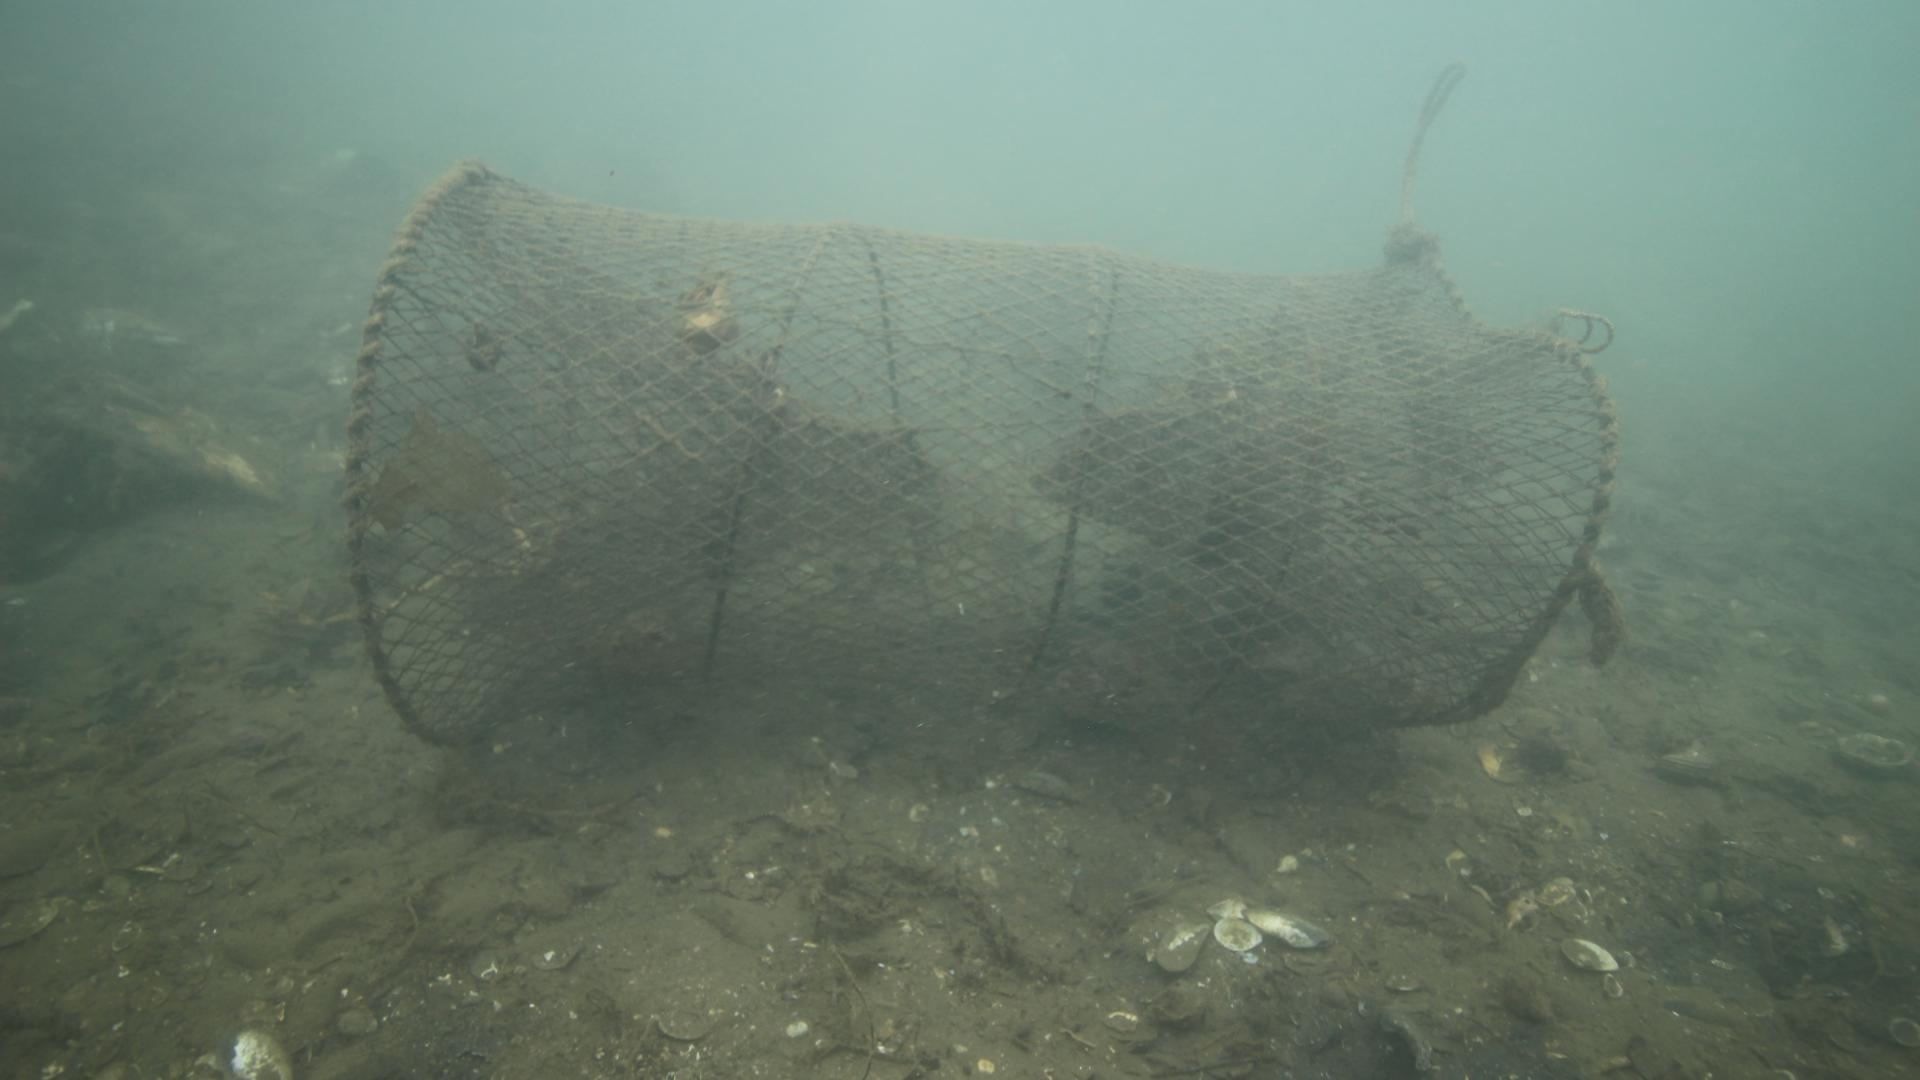bundle of ropes: (1395, 58, 1466, 245)
spring fish trap: (340, 161, 1618, 750)
